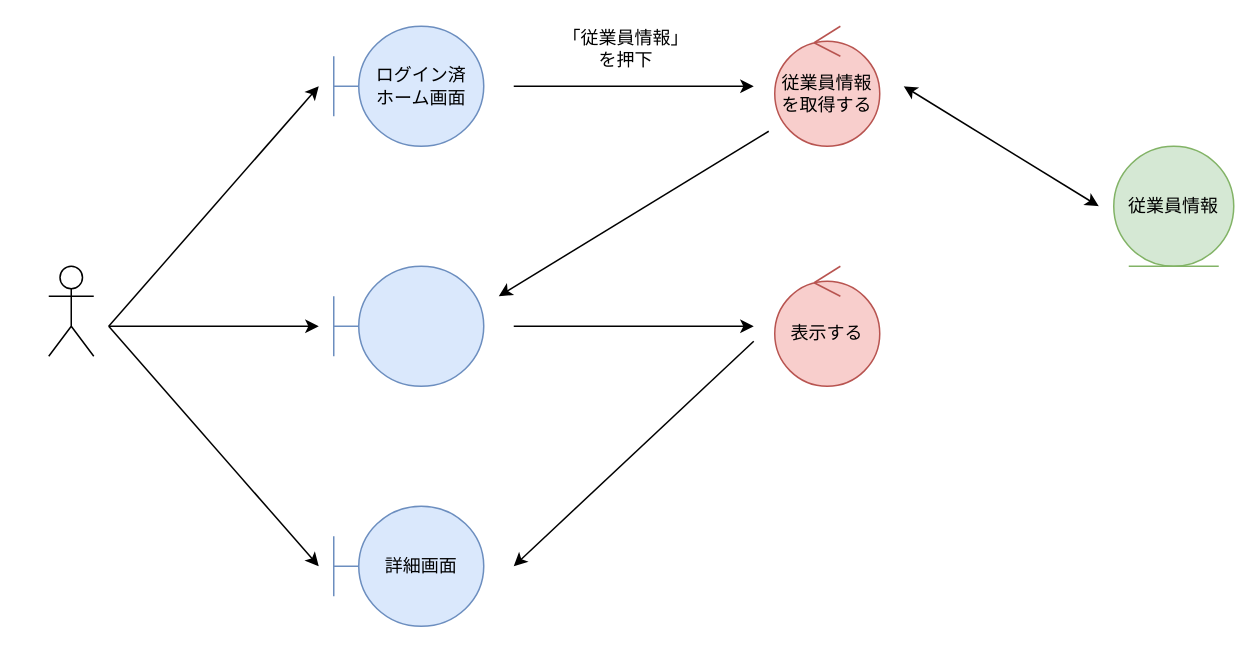
This 1260x653 diagram has some shape labels left out. Here are the shapes that lost their labels. From the top down, the centre of each, then its label:
At point 70,310: "正規社員 非正規社員".
At point 408,325: "従業員情報 一覧画面".
